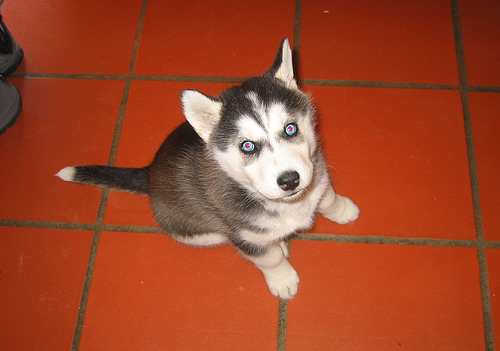dog: (50, 35, 359, 302)
